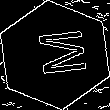M_W: (25, 29, 85, 81)
